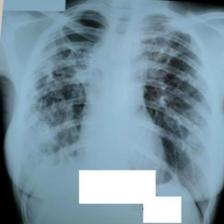tuberculosis: (12, 7, 210, 192)
